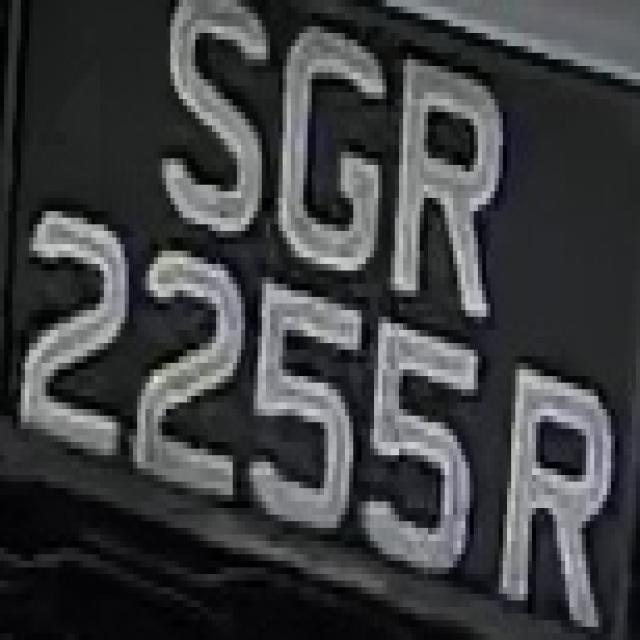2: (21, 192, 133, 488), (137, 231, 249, 508)
5: (241, 251, 366, 534), (357, 317, 482, 594)
G: (274, 20, 399, 297)
R: (382, 33, 512, 310), (499, 323, 615, 627)
S: (158, 20, 278, 244)
